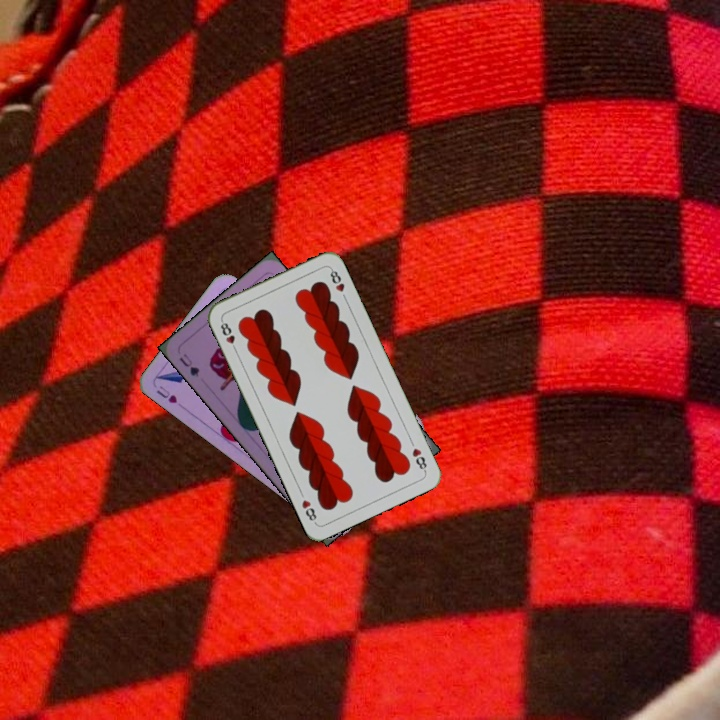GU: (175, 350, 202, 380)
H8: (216, 316, 240, 354), (408, 444, 429, 474)
HU: (152, 382, 180, 406)
